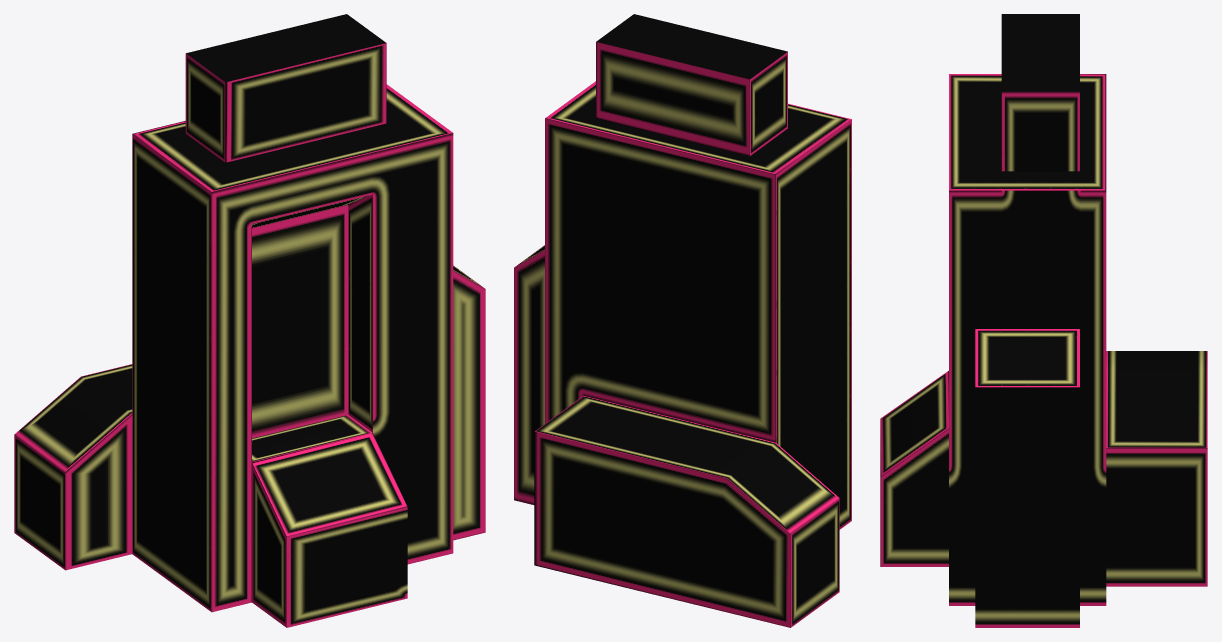
Rendered from building_8.obj.
3 views of the same model, side by side, from view 1: azimuth 30°, elevation 25°; view 2: azimuth 150°, elevation 25°; view 3: azimuth 270°, elevation 25° (orthographic). The views are drawn at different scales.
Visible parts, largest first — view 1: building_8; view 2: building_8; view 3: building_8.
Part boxes in pixels (left/top/right/bottom): building_8: left=14, top=14, right=485, bottom=627; building_8: left=514, top=14, right=851, bottom=627; building_8: left=880, top=14, right=1207, bottom=627.
Bounding box in the file's own units: 10.64 × 14.38 × 8.62.
